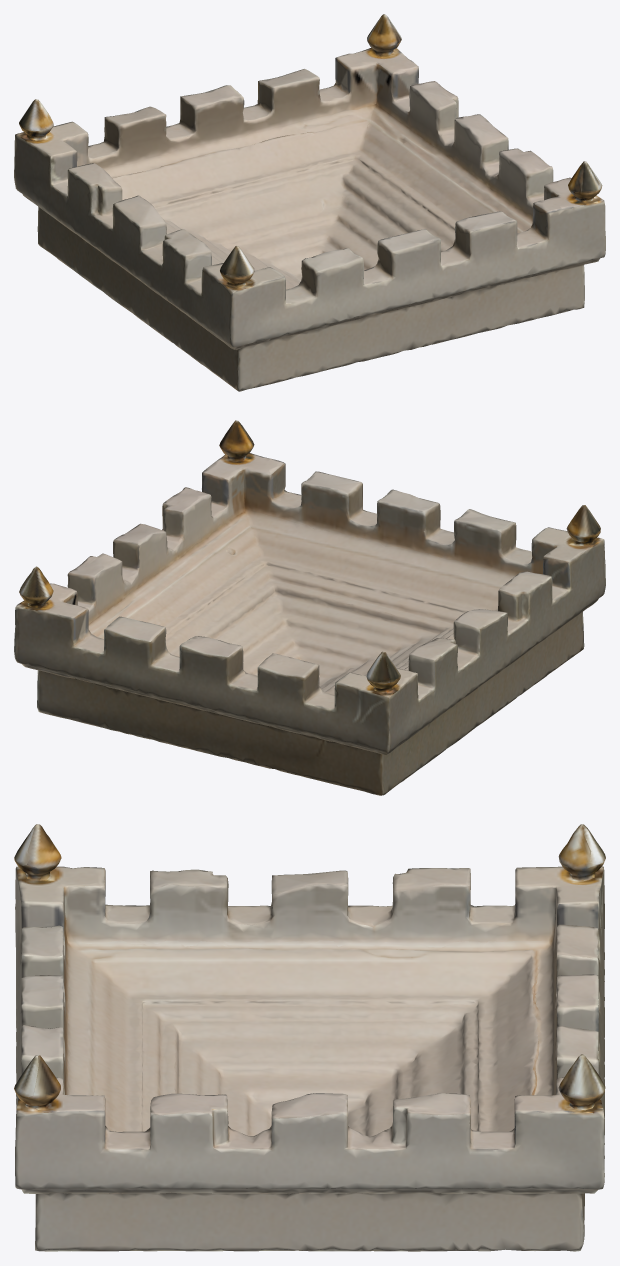
File: 롯데_성상단.glb
3 views of the same model, one above another, from view 1: azimuth 30°, elevation 25°; view 2: azimuth 150°, elevation 25°; view 3: azimuth 270°, elevation 25° (orthographic). The views are drawn at different scales.
Visible parts, largest first — view 1: texture_mapping; view 2: texture_mapping; view 3: texture_mapping.
Boxes of the visible parts, <box> form: texture_mapping: <box>14,14,605,391</box>; texture_mapping: <box>14,420,605,795</box>; texture_mapping: <box>14,824,605,1251</box>.
Bounding box in the file's own units: 1 × 0.4455 × 1.
1 material, 1 textured.
